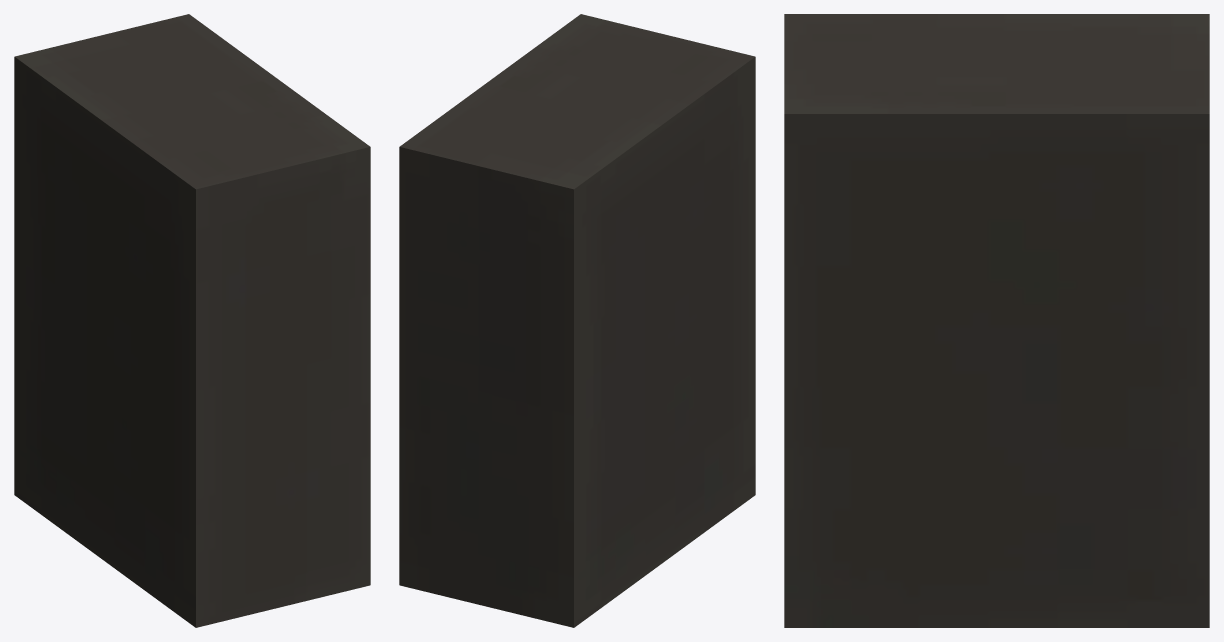
The model's file is support_arm__web.glb.
The picture shows the model from 3 angles, left to right: view 1: azimuth 30°, elevation 25°; view 2: azimuth 150°, elevation 25°; view 3: azimuth 270°, elevation 25°; orthographic projection. The views are drawn at different scales.
Parts seen in each view (by area): view 1: world; view 2: world; view 3: world.
Boxes of the visible parts, x1=… form: world: x1=14, y1=14, x2=370, y2=627; world: x1=399, y1=14, x2=755, y2=627; world: x1=784, y1=14, x2=1209, y2=627.
Bounding box in the file's own units: 0.05 × 0.12 × 0.09.
Materials: 1 (1 with a texture image).
